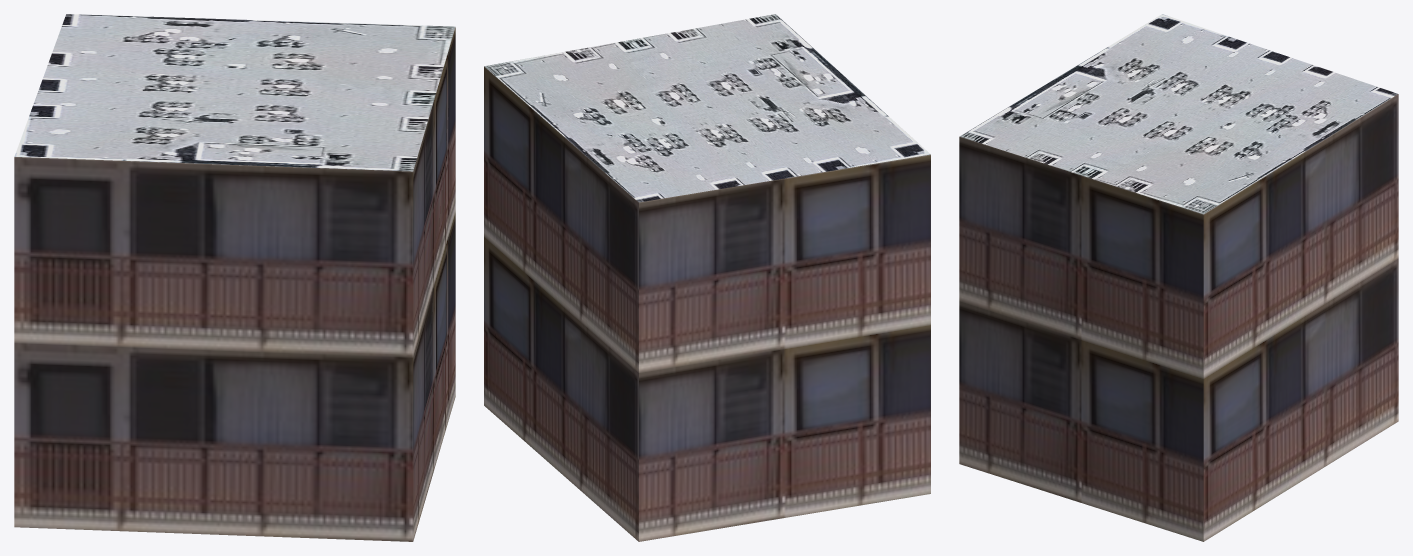
File: ResTex__5121.fbx
3 renders of one model, left to right at view 1: azimuth 30°, elevation 25°; view 2: azimuth 150°, elevation 25°; view 3: azimuth 270°, elevation 25°, orthographic. The views are drawn at different scales.
Parts seen in each view (by area): view 1: CityEngineMaterial_6_m, CityEngineMaterial_8_m; view 2: CityEngineMaterial_6_m, CityEngineMaterial_8_m; view 3: CityEngineMaterial_6_m, CityEngineMaterial_8_m.
Part boxes in pixels (<box>): CityEngineMaterial_6_m: <box>14,27,455,541</box>; CityEngineMaterial_8_m: <box>14,14,455,171</box>; CityEngineMaterial_6_m: <box>484,66,930,541</box>; CityEngineMaterial_8_m: <box>484,14,930,202</box>; CityEngineMaterial_6_m: <box>959,94,1398,541</box>; CityEngineMaterial_8_m: <box>960,14,1397,214</box>.
Bounding box in the file's own units: 7.87 × 6 × 7.29.
Materials: 2 (2 with a texture image).
